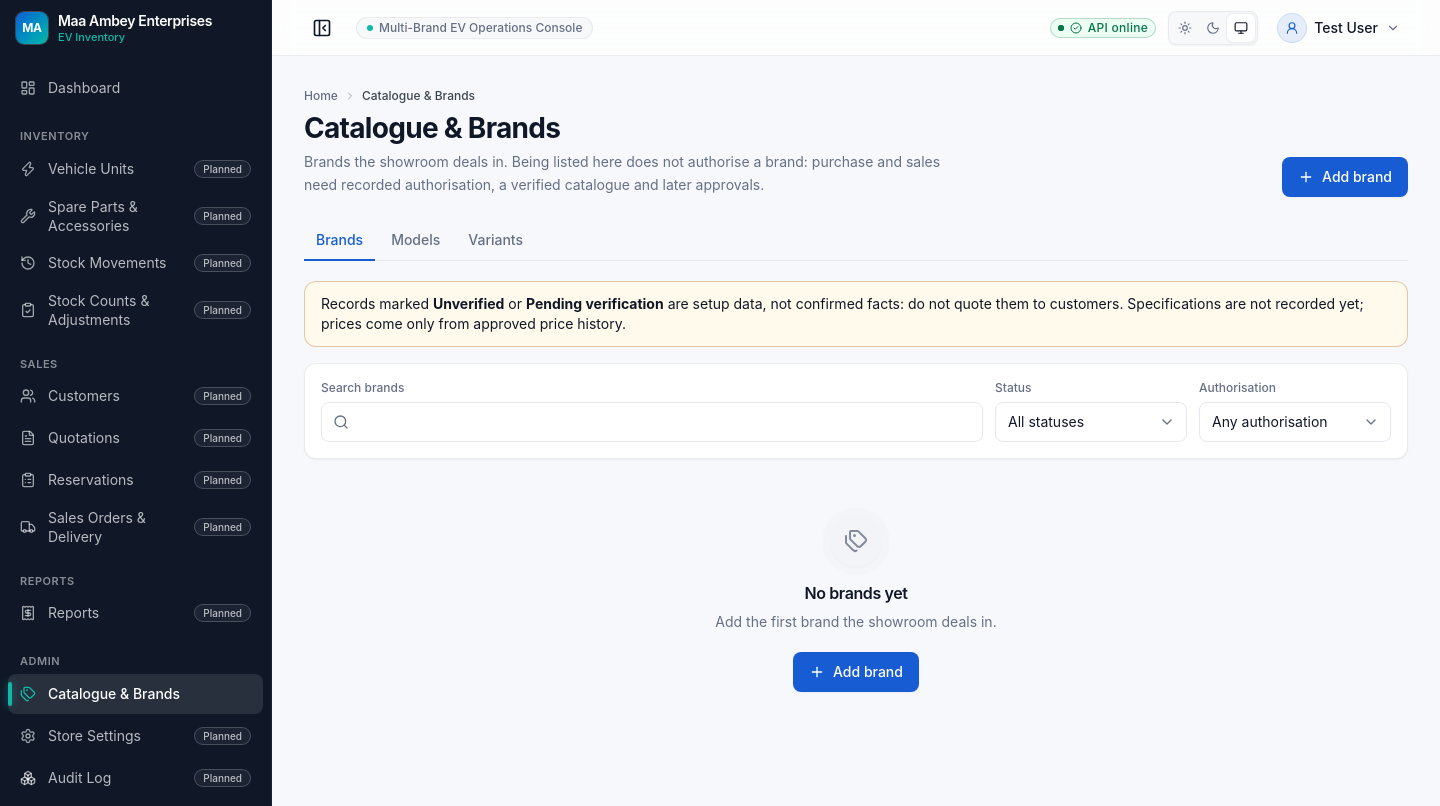
brand list › validates the form, shows a server duplicate on the field, and opens the new brand only after the server confirms
Click the 1st button "Add brand" at (1345, 177), box x1=1282 y1=157 x2=1408 y2=197
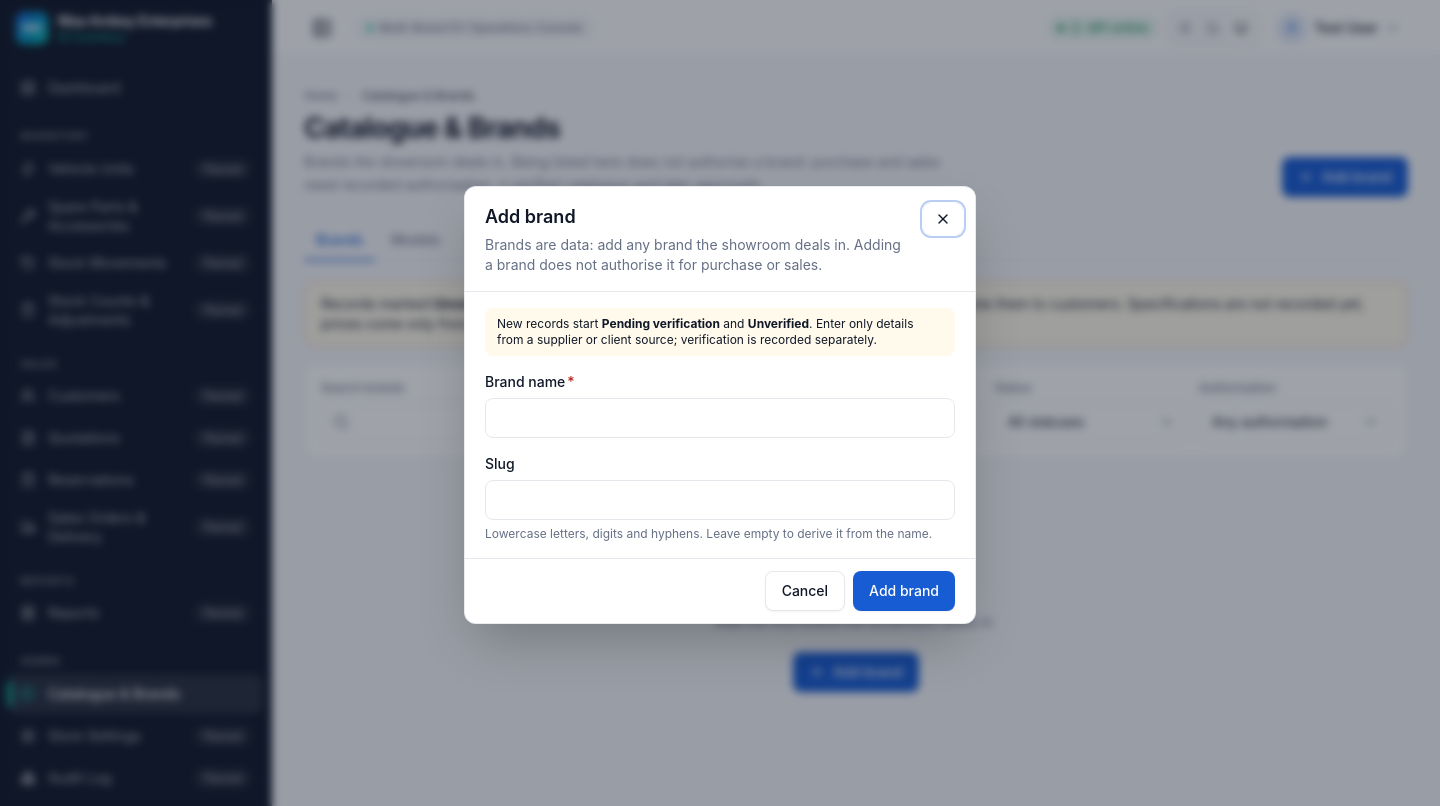
Click the button "Add brand" at (904, 591), box x1=853 y1=571 x2=955 y2=611
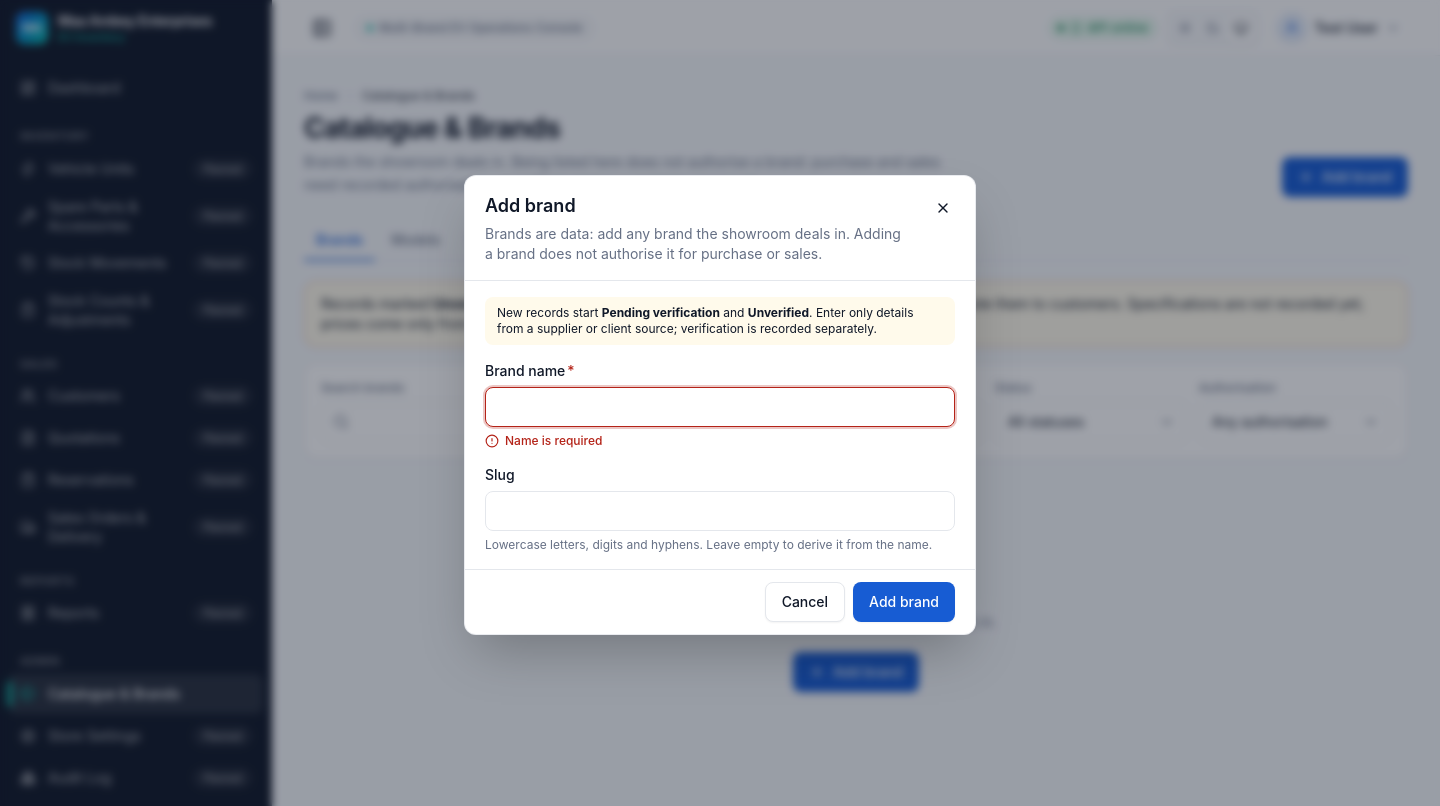
Expected: the text "Name is required" is shown, x1=505 y1=433 x2=602 y2=449
Type "Brand New" into the field labelled "Brand name*" at (720, 407), box x1=485 y1=387 x2=955 y2=427
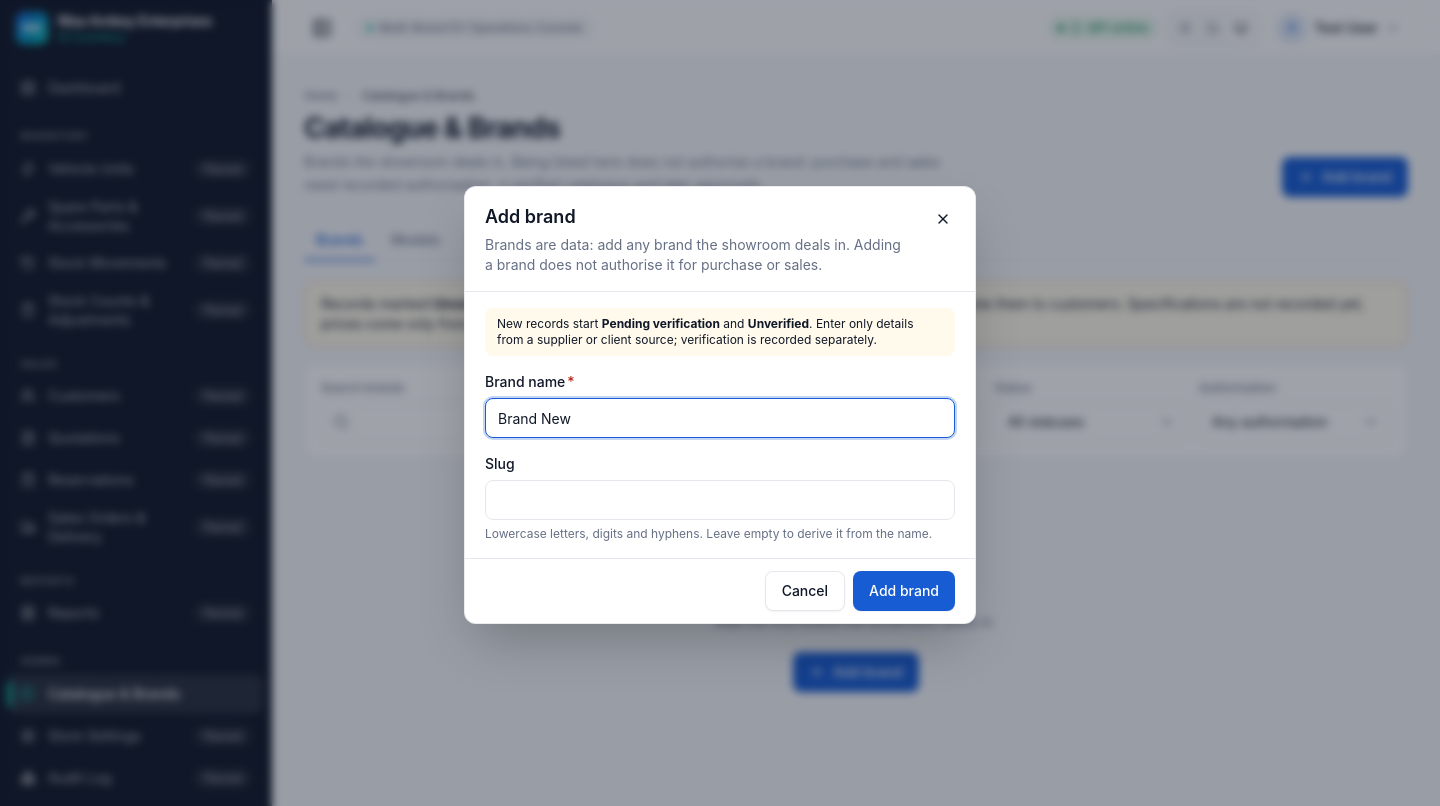
Click the button "Add brand" at (904, 591), box x1=853 y1=571 x2=955 y2=611
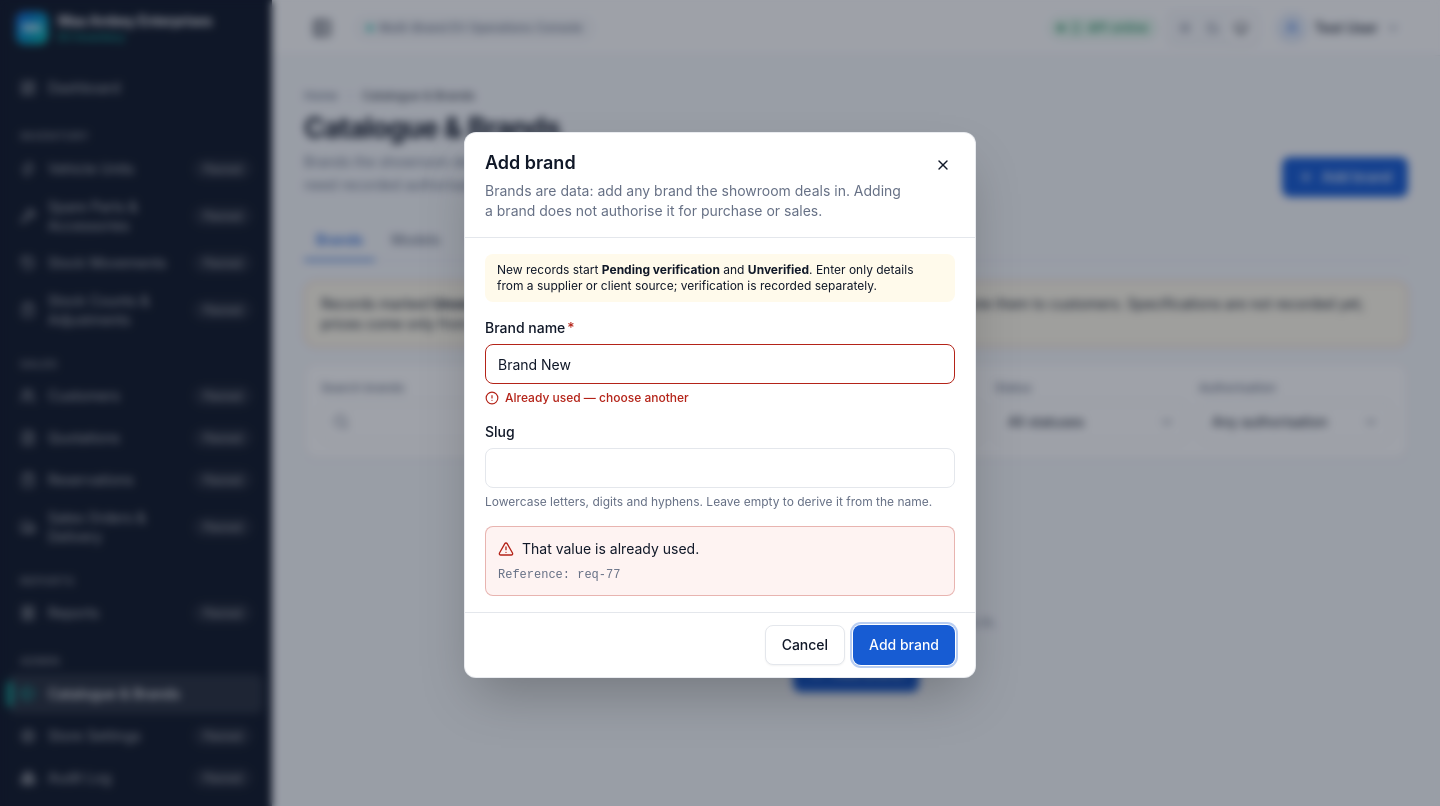
Expected: the text "Already used — choose another" is shown, x1=505 y1=390 x2=689 y2=406
Click the button "Add brand" at (904, 645), box x1=853 y1=625 x2=955 y2=665
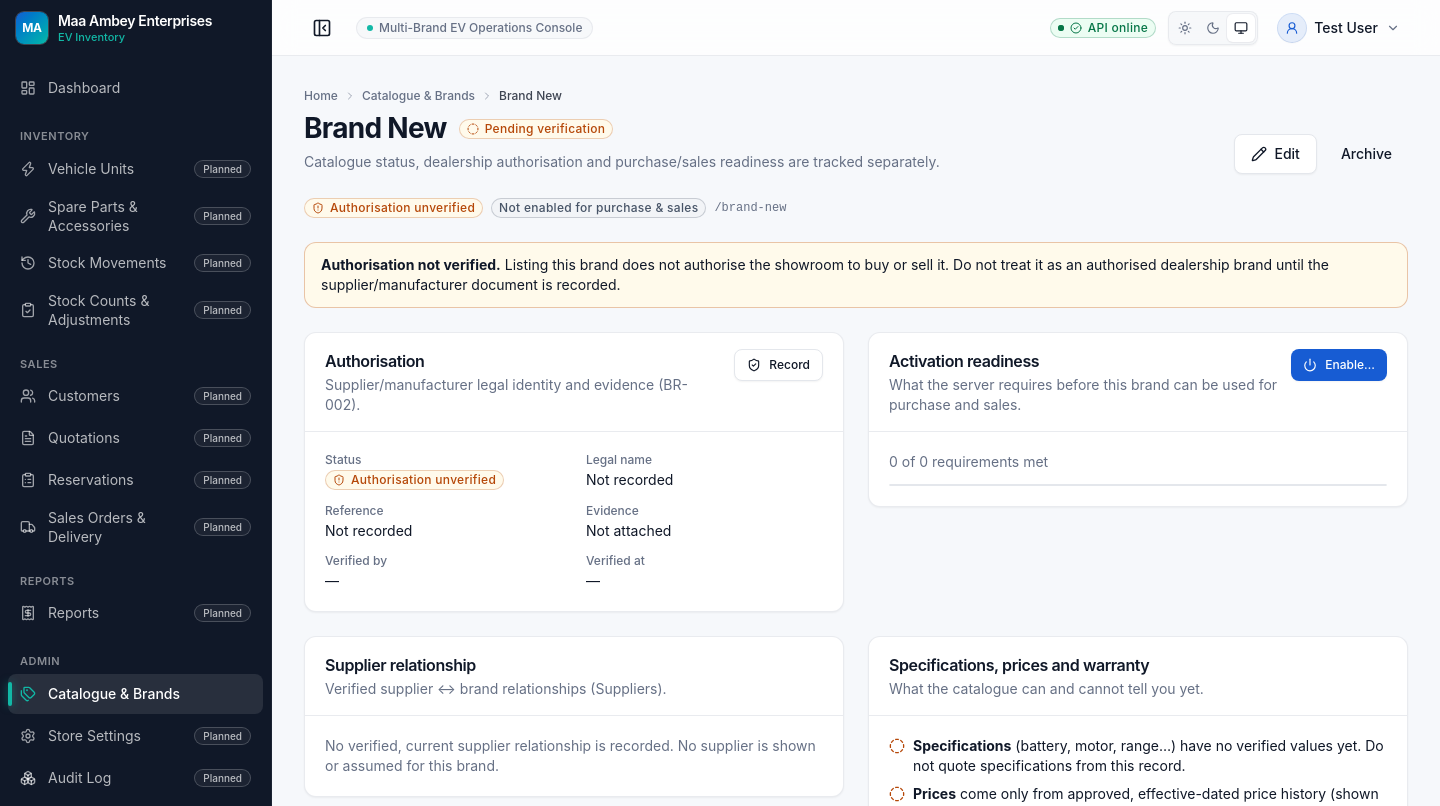
Expected: the heading "Brand New" is shown, x1=304 y1=110 x2=447 y2=147
